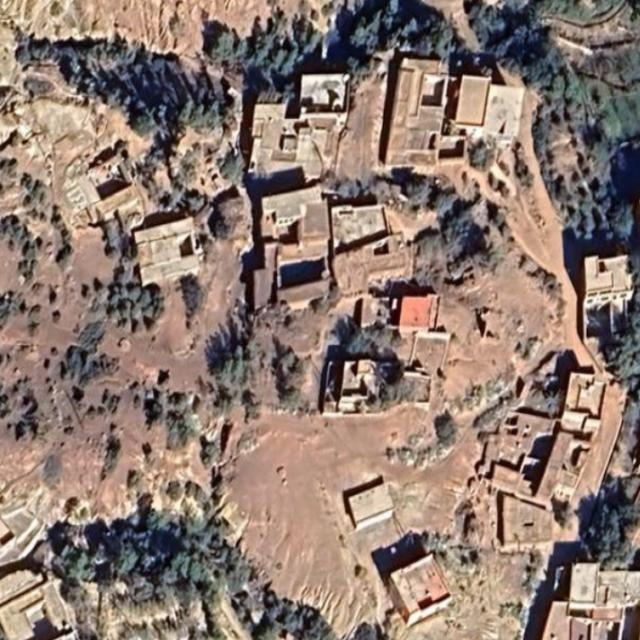Countryside roofs: (483, 377, 632, 552), (238, 63, 352, 184), (245, 196, 337, 302), (322, 337, 421, 423), (550, 550, 640, 640), (328, 204, 421, 290), (385, 47, 446, 177), (374, 544, 466, 628), (435, 76, 535, 150), (126, 207, 208, 296), (574, 230, 639, 314), (324, 471, 400, 528), (400, 288, 447, 345)
